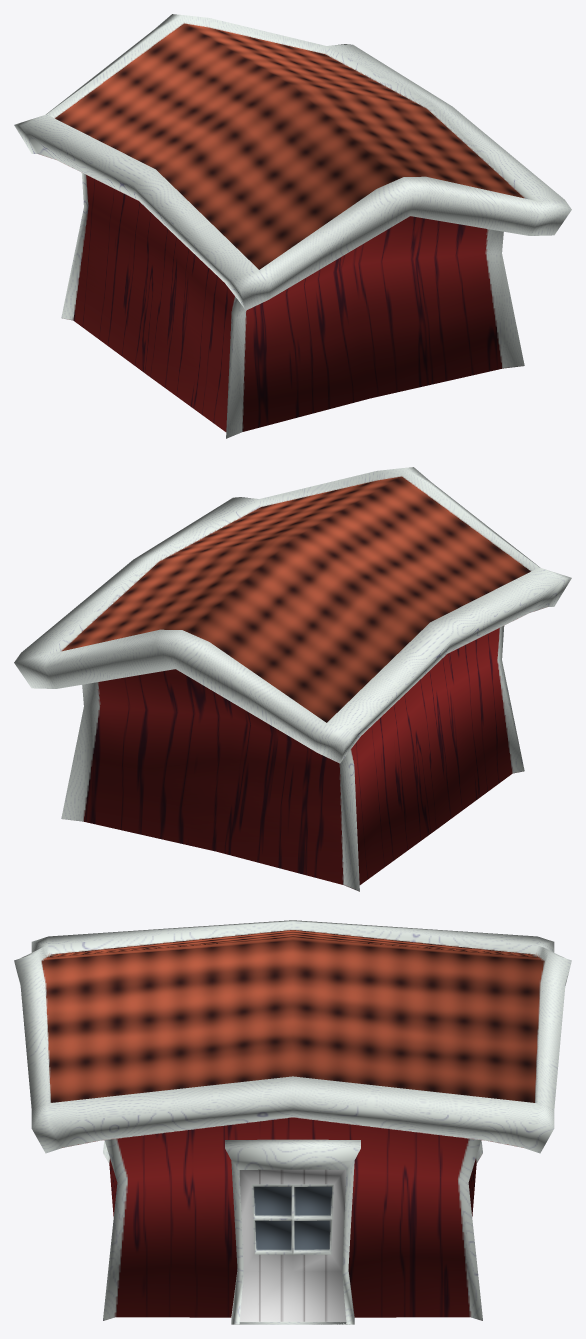
File: Small House.fbx
3 views of the same model, one above another, from view 1: azimuth 30°, elevation 25°; view 2: azimuth 150°, elevation 25°; view 3: azimuth 270°, elevation 25° (orthographic). The views are drawn at different scales.
Parts seen in each view (by area): view 1: Stuga 1.002; view 2: Stuga 1.002; view 3: Stuga 1.002.
Boxes of the visible parts, bbox=[...] form: Stuga 1.002: bbox=[14, 14, 571, 438]; Stuga 1.002: bbox=[14, 467, 571, 891]; Stuga 1.002: bbox=[14, 920, 571, 1324].
Size of the model in its own units: 511 by 376 by 644.
Materials: 1 (1 with a texture image).
